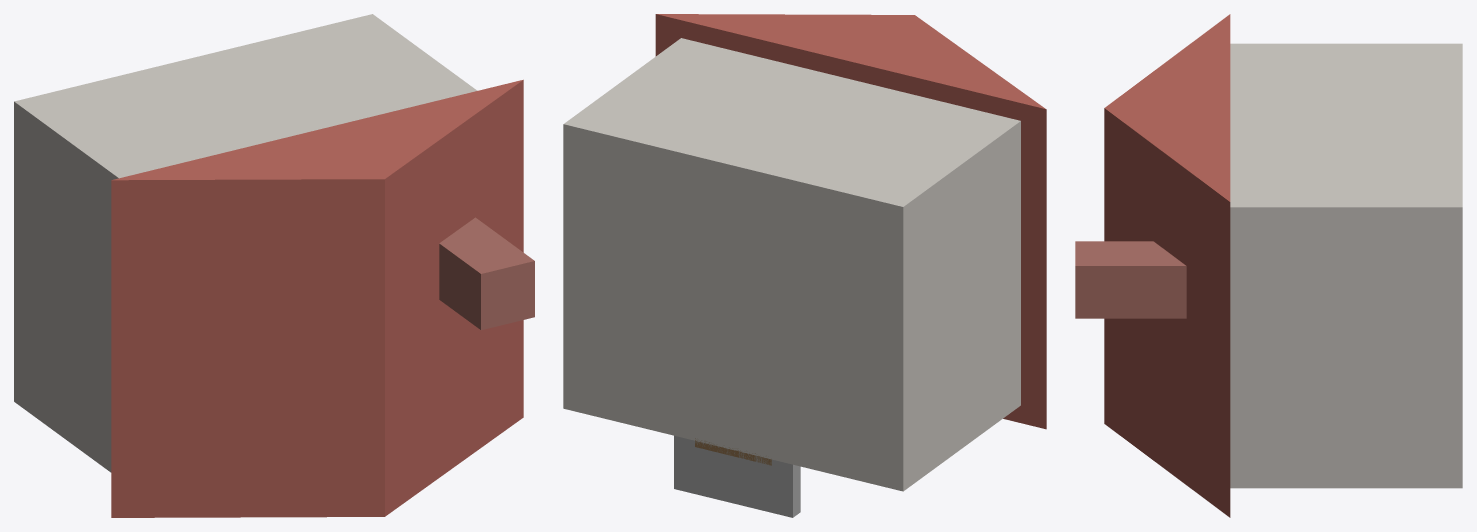
Rendered from house.glb.
3 renders of one model, left to right at view 1: azimuth 30°, elevation 25°; view 2: azimuth 150°, elevation 25°; view 3: azimuth 270°, elevation 25°, orthographic. The views are drawn at different scales.
Visible parts, largest first — view 1: geometry_0; view 2: geometry_0; view 3: geometry_0.
Boxes of the visible parts, x1,y1,x2,y2 form: geometry_0: (14, 14, 534, 517); geometry_0: (563, 14, 1046, 517); geometry_0: (1075, 14, 1462, 517).
Bounding box in the file's own units: 2.3 × 2 × 2.
